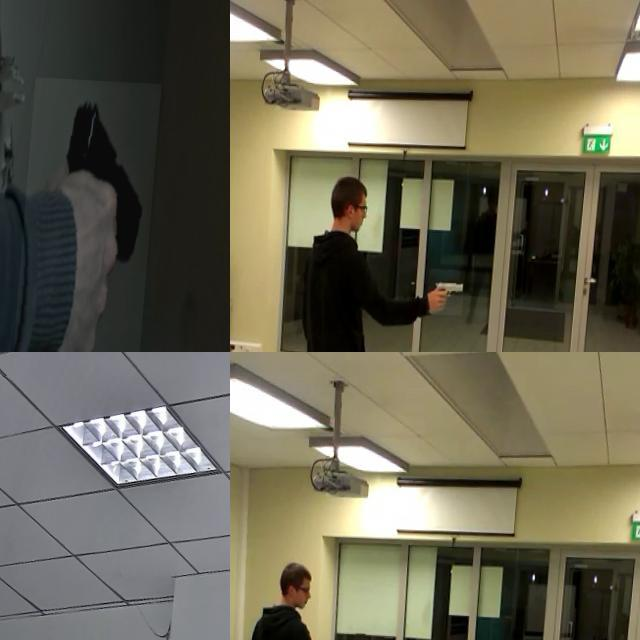gun-knife-thesis - v11 Yolov5 augmented: (17, 75, 164, 352), (432, 266, 472, 312)
